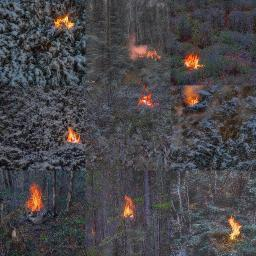Small fire: (123, 31, 167, 69), (25, 175, 55, 223), (48, 8, 83, 43), (57, 119, 91, 152), (115, 186, 140, 230), (220, 212, 251, 246), (133, 81, 165, 113), (176, 48, 209, 77), (179, 86, 210, 115)
